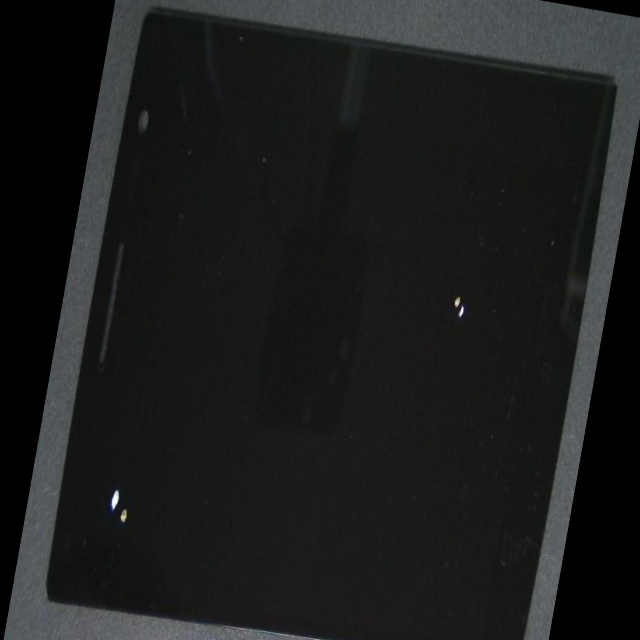stain: (261, 144, 626, 465), (72, 239, 231, 640)
